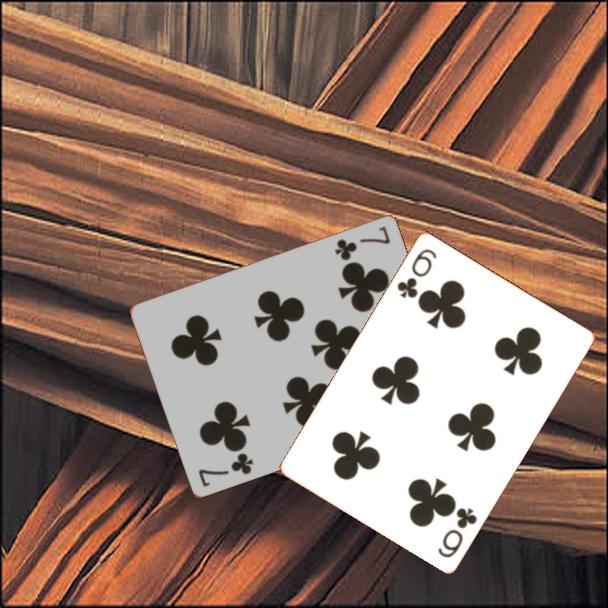c06: (393, 245, 440, 301), (434, 503, 480, 560)
c07: (331, 222, 393, 263), (195, 449, 257, 489)
